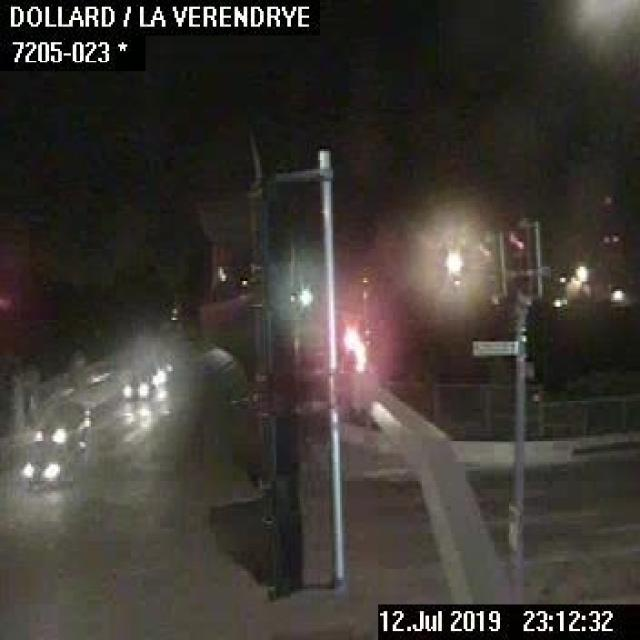vehicle: (11, 442, 86, 484), (32, 398, 91, 444), (113, 369, 152, 406)
